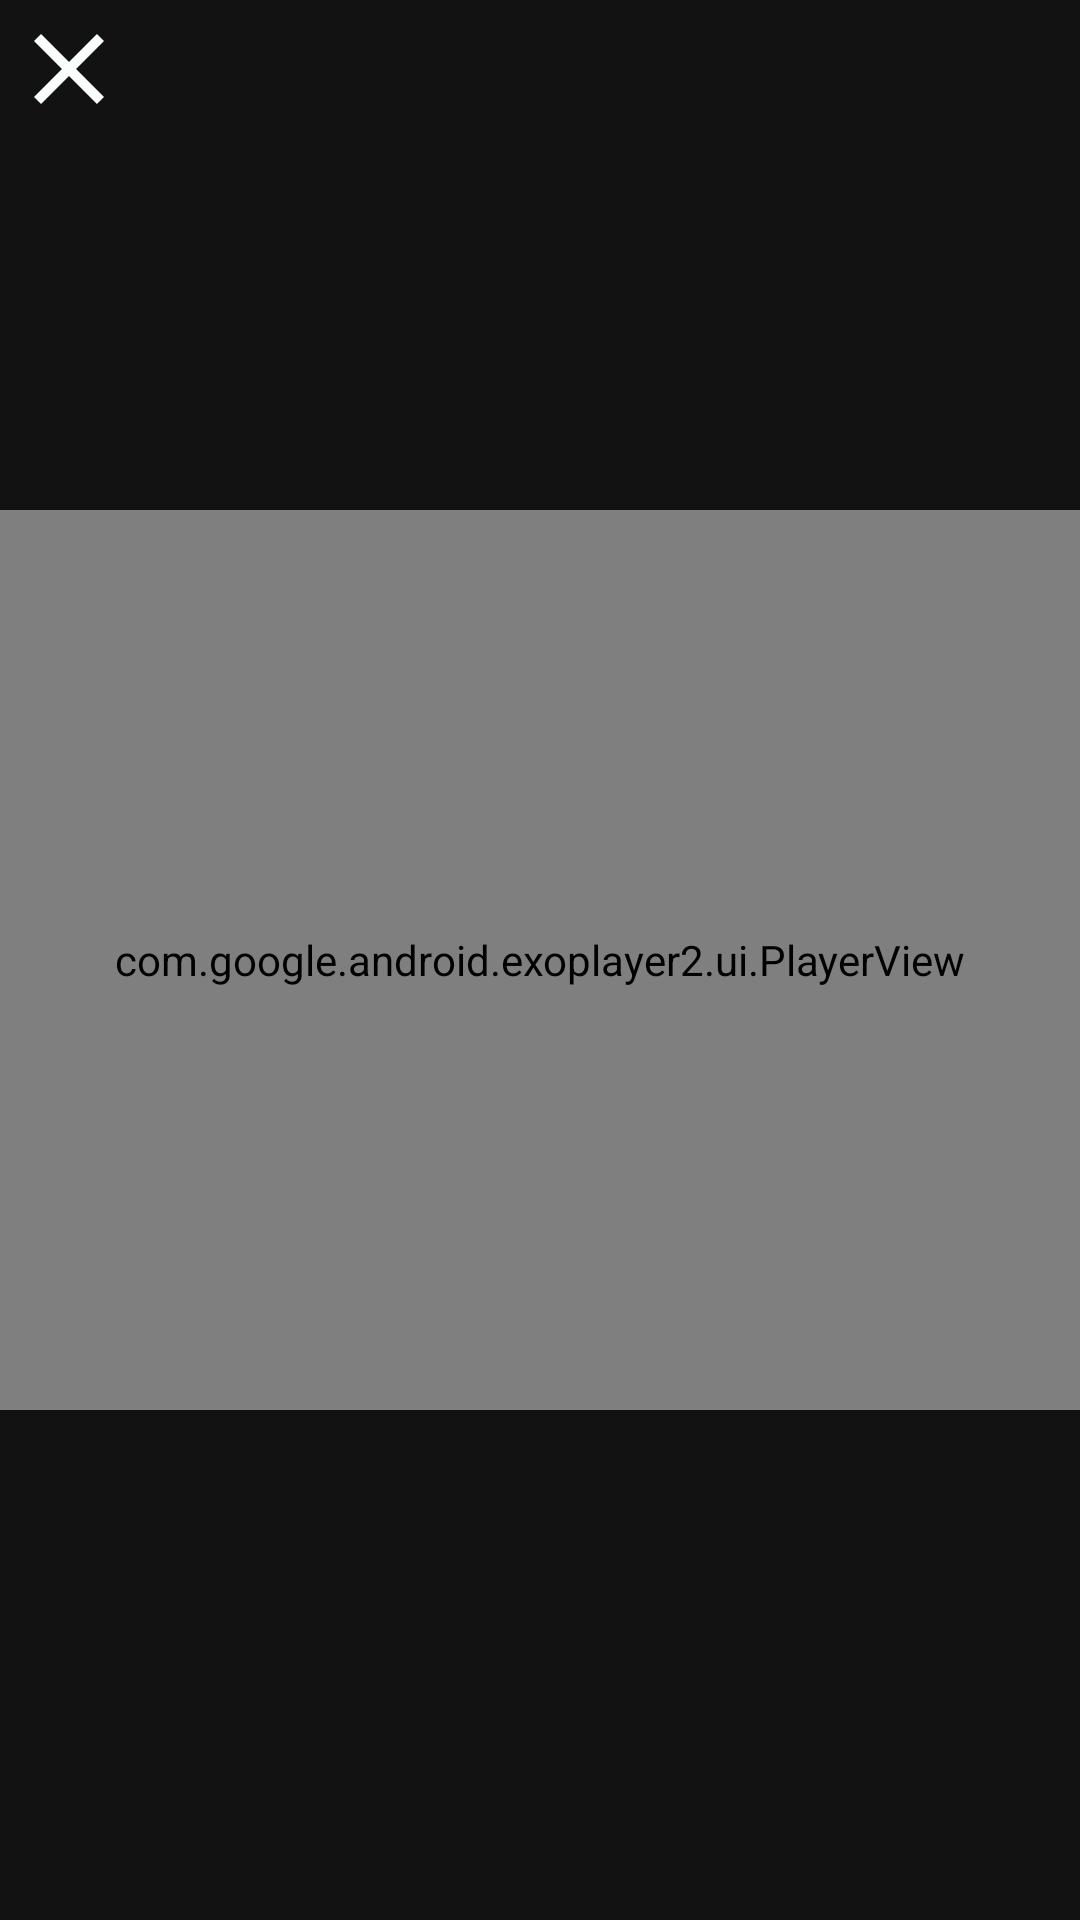

Locate icon controls on the screen. Image size 1080px×1920px, boxes as detection(x1, y1, x2, y2).
close: detection(34, 34, 104, 104)
